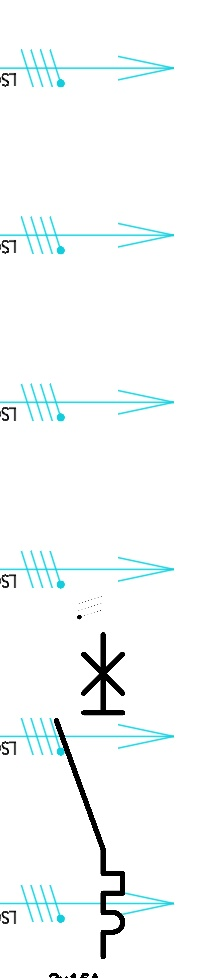interruptor_termomagnetico: (48, 626, 131, 965)
